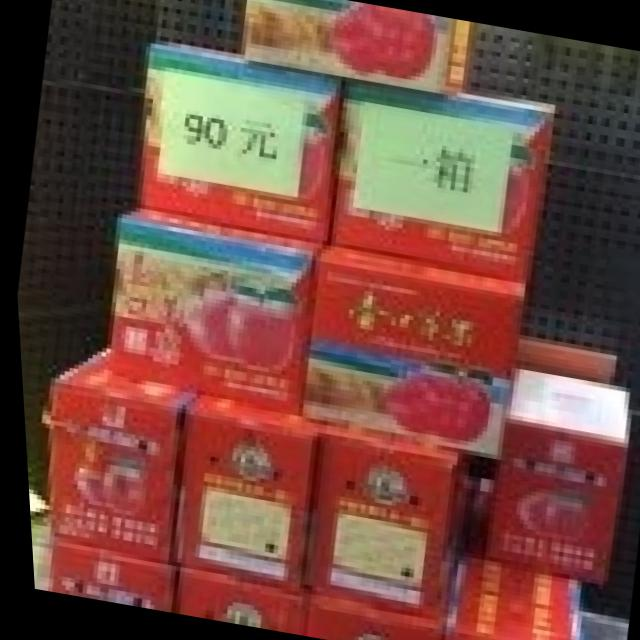box: (323, 78, 553, 284), (296, 246, 522, 455), (107, 208, 323, 416), (137, 43, 344, 246), (477, 335, 625, 585), (292, 424, 470, 622), (43, 345, 200, 566), (169, 391, 317, 587), (438, 477, 570, 640), (244, 0, 473, 93), (36, 531, 171, 614), (171, 567, 300, 636), (298, 589, 439, 640)
